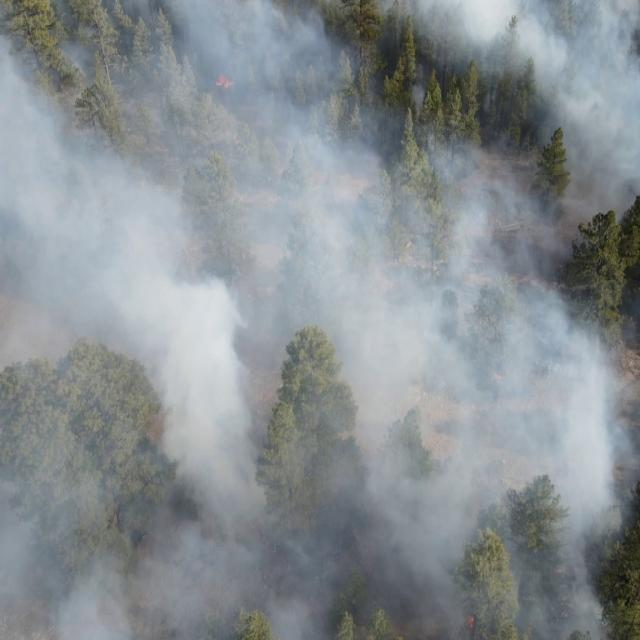fire: (213, 72, 235, 90), (461, 610, 479, 630)
smoke: (0, 225, 594, 640), (0, 0, 640, 225), (594, 285, 640, 559), (594, 599, 612, 640)
